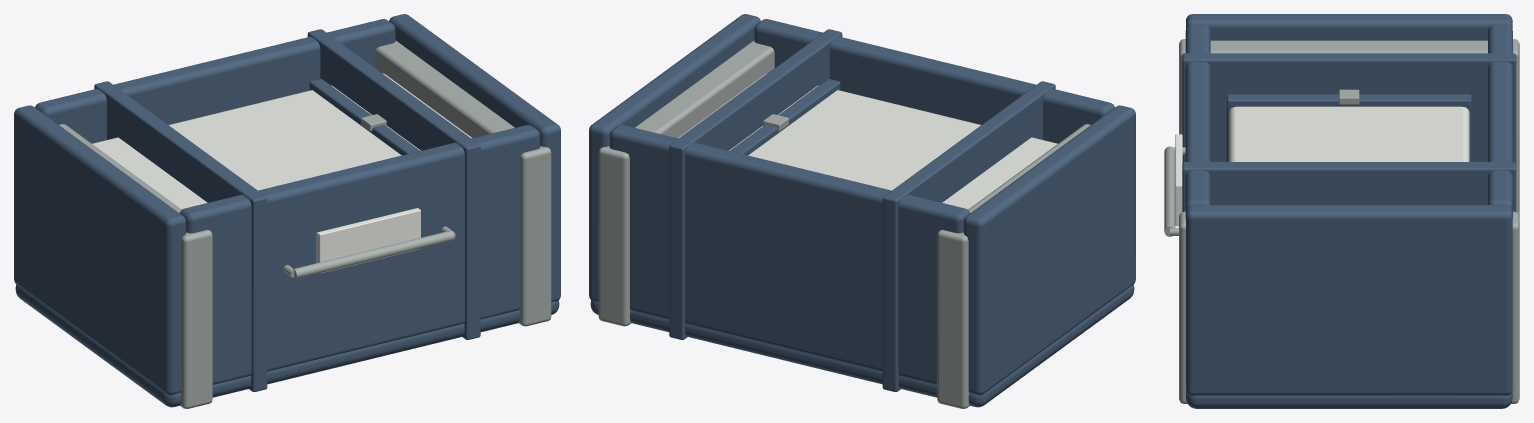
The model's file is spacecraft-parachute-packing-hall-spacecraft-parachute-40e19602__32120.glb.
3 renders of one model, left to right at view 1: azimuth 30°, elevation 25°; view 2: azimuth 150°, elevation 25°; view 3: azimuth 270°, elevation 25°, orthographic. The views are drawn at different scales.
Visible parts, largest first — view 1: spacecraft-parachute-packing-hall-packed-assembly-shipping-c (×4); view 2: spacecraft-parachute-packing-hall-packed-assembly-shipping-c (×3); view 3: spacecraft-parachute-packing-hall-packed-assembly-shipping-c (×4).
Boxes of the visible parts, box(x1,y1,x2,y2) form: spacecraft-parachute-packing-hall-packed-assembly-shipping-c (×4): box(14, 14, 560, 408); spacecraft-parachute-packing-hall-packed-assembly-shipping-c (×3): box(589, 14, 1135, 408); spacecraft-parachute-packing-hall-packed-assembly-shipping-c (×4): box(1164, 14, 1519, 408).
Size of the model in its own units: 1.05 by 0.49 by 0.782.
